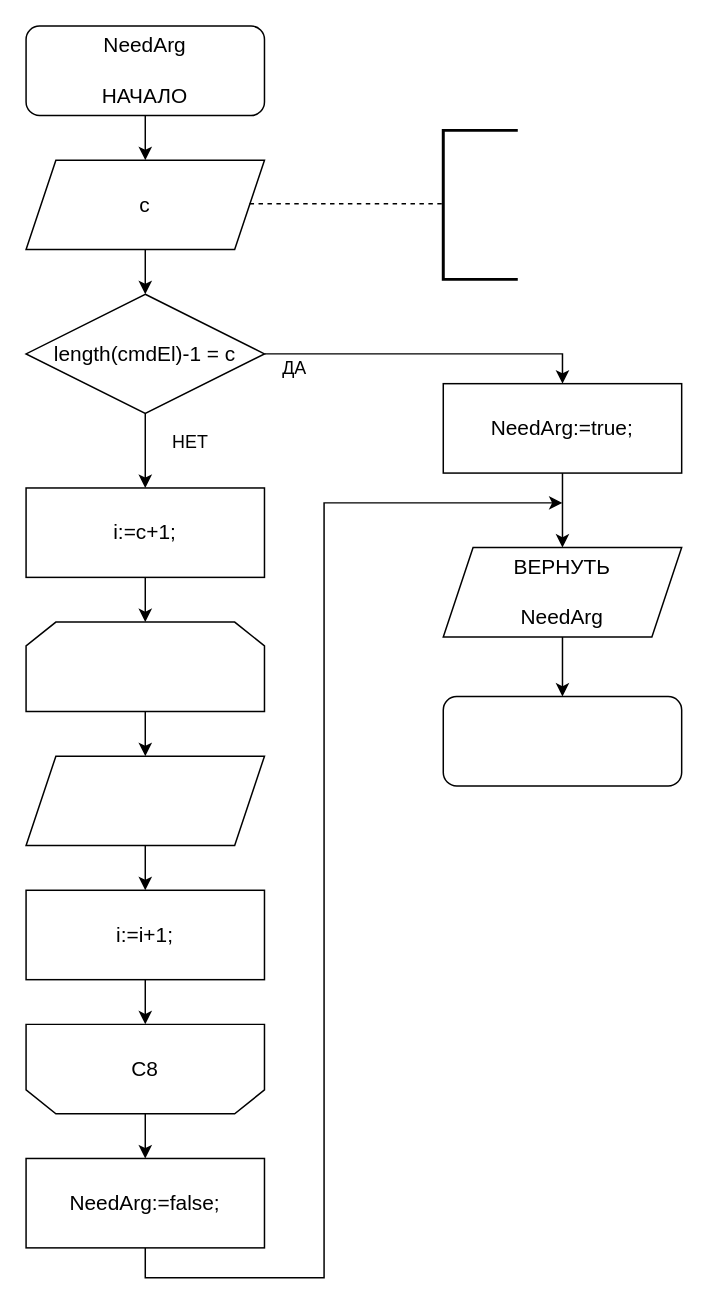
This 708x1316 diagram has some shape labels left out. The centre of each missing label's shape, as x and y in pixels:
c - число по значению: pixel 480 204
C8 length(cmdEl): pixel 144 666
writeln('Unknown argument: ', cmdEl[i]);: pixel 144 800
КОНЕЦ NeedArg: pixel 562 740
